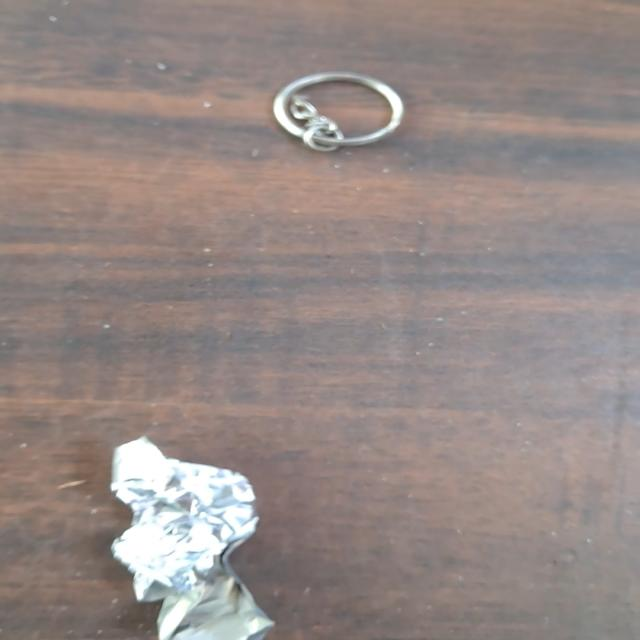Anorganik: (92, 425, 296, 640), (264, 68, 412, 157)
